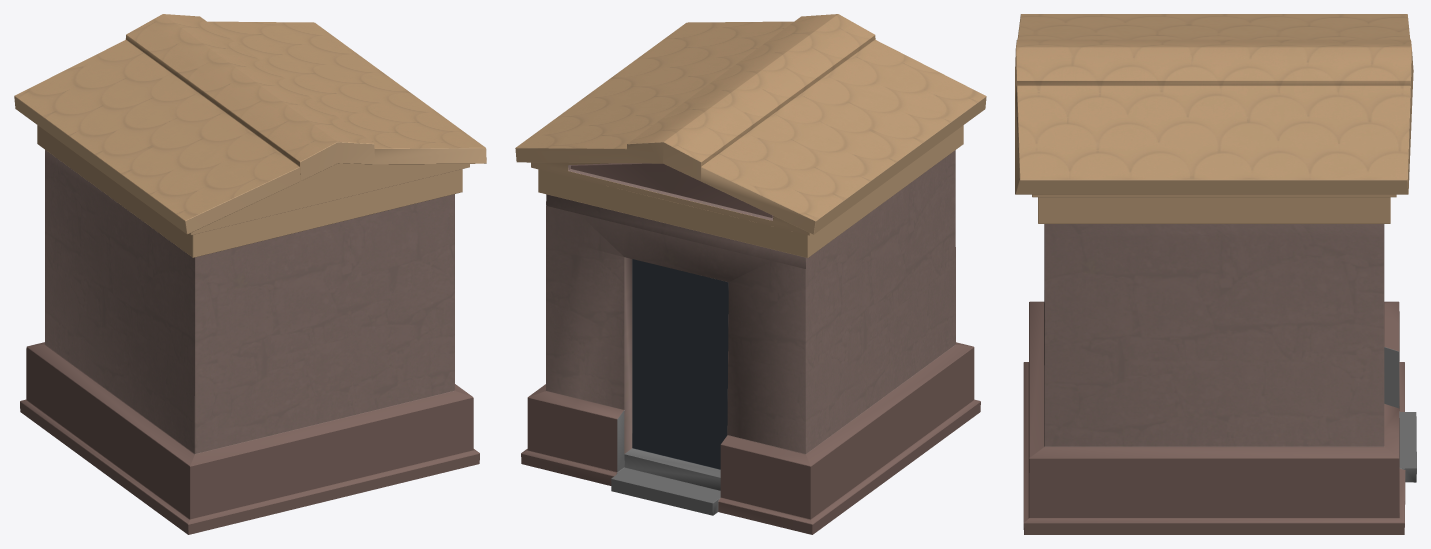
File: Shop.fbx
The picture shows the model from 3 angles, left to right: view 1: azimuth 30°, elevation 25°; view 2: azimuth 150°, elevation 25°; view 3: azimuth 270°, elevation 25°; orthographic projection. The views are drawn at different scales.
Parts seen in each view (by area): view 1: Shop; view 2: Shop; view 3: Shop.
Boxes of the visible parts, <box> form: Shop: <box>14,14,486,534</box>; Shop: <box>515,14,986,534</box>; Shop: <box>1015,14,1416,534</box>.
Size of the model in its own units: 137 by 156 by 140.
Materials: 1 (1 with a texture image).
